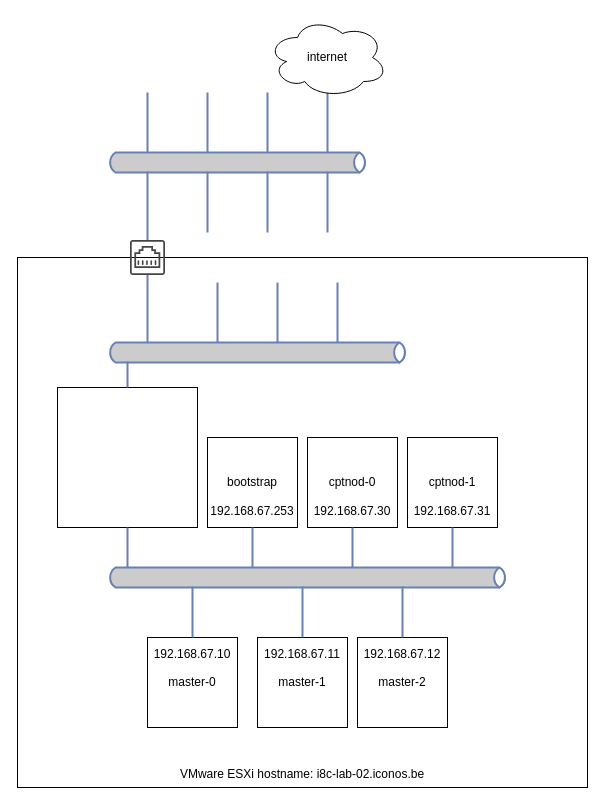
Some shapes in this 605 by 805 pixel diagram are drawn without their labels. The shapes that lost their labels are listed below. From the top down, each one's box as (x1, y1, x2, y2) in pixels, then its label:
(106, 151, 368, 173): iconos.be
(106, 341, 408, 363): vSwitch with uplink
(56, 386, 198, 528): xxx.xxx.xxx.xxx bastion (DNS, DHCP, HAProxy, TFTP, Matchbox) 192.168.67.1
(106, 566, 508, 588): virtual switch: vSwitchocp67 (192.168.67.0/24)
